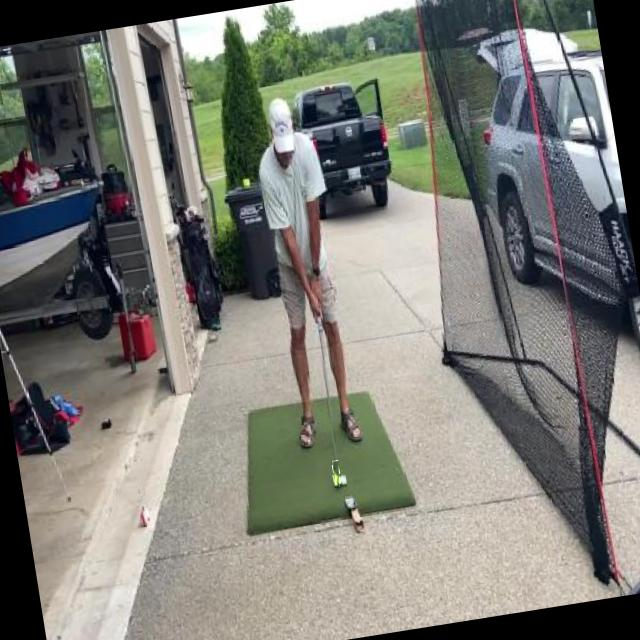club head: (332, 460, 342, 488)
